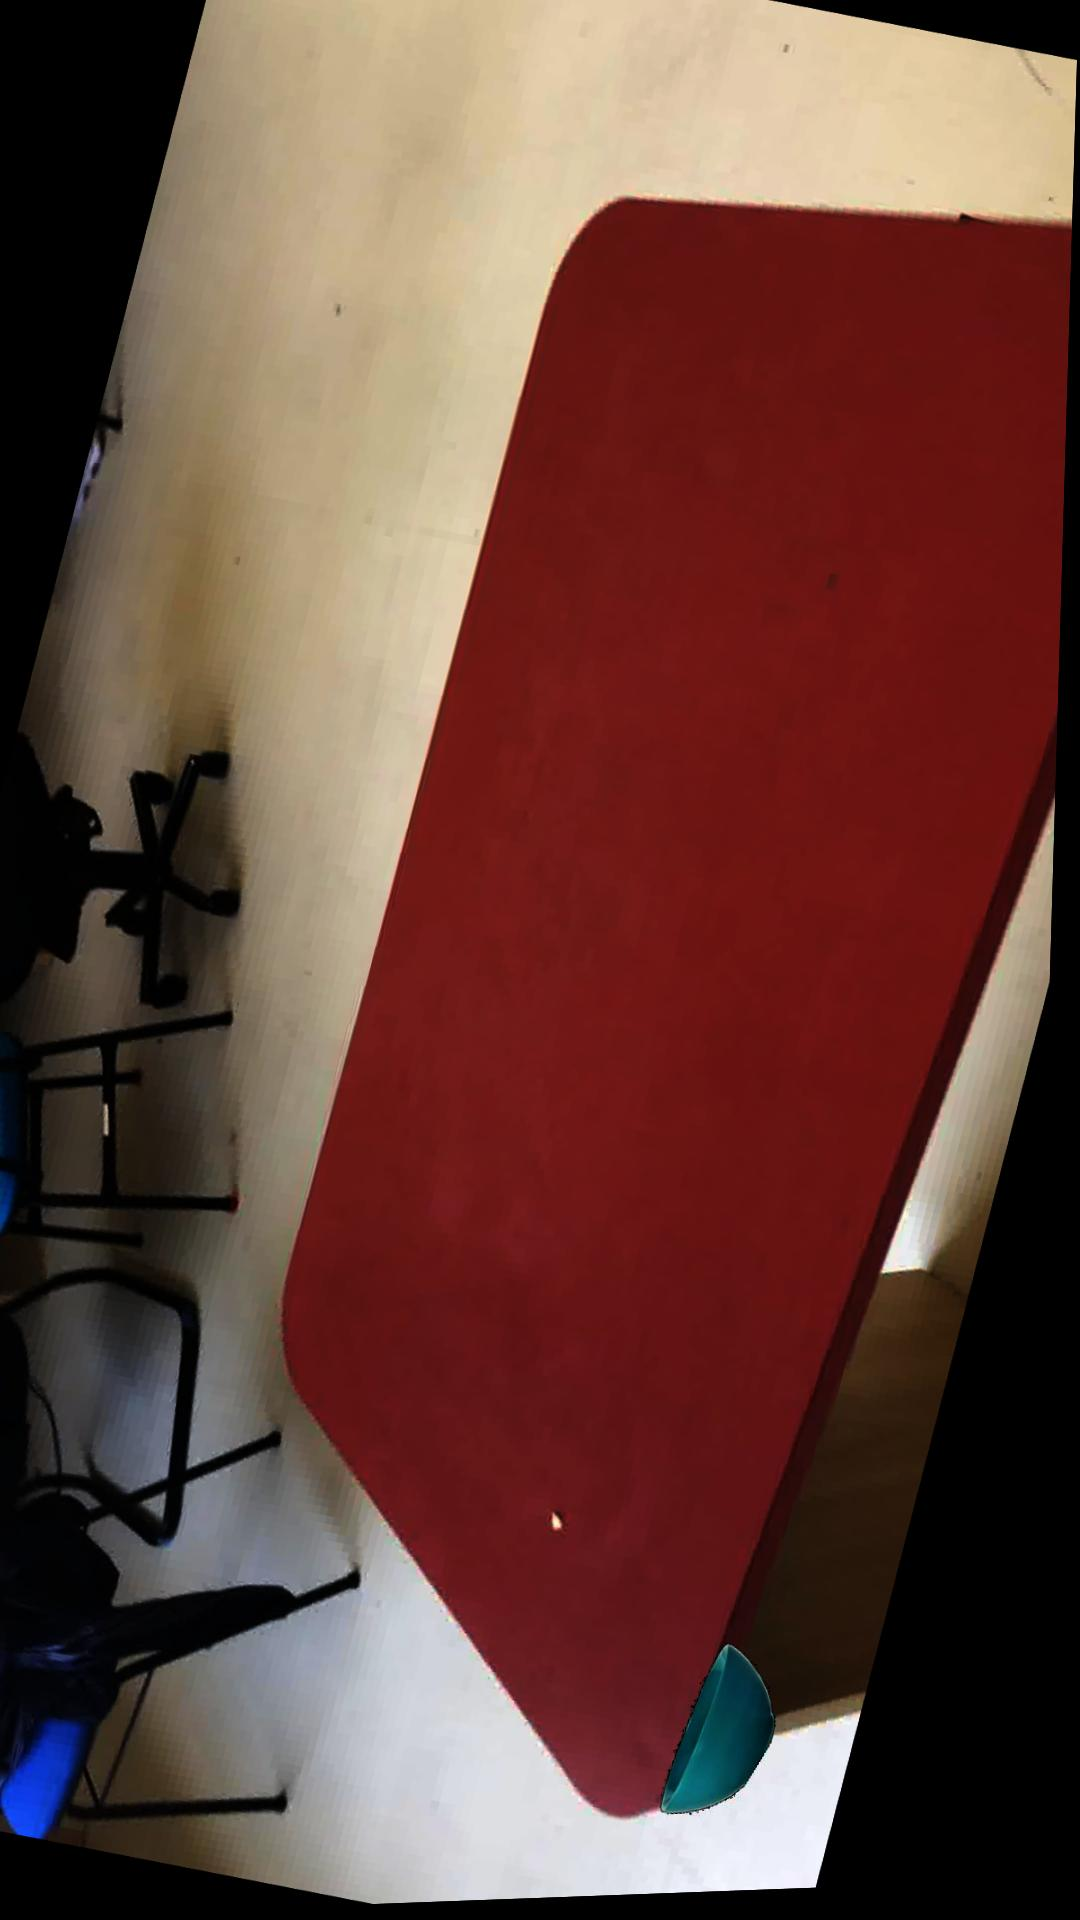bowl: (674, 1647, 789, 1818)
